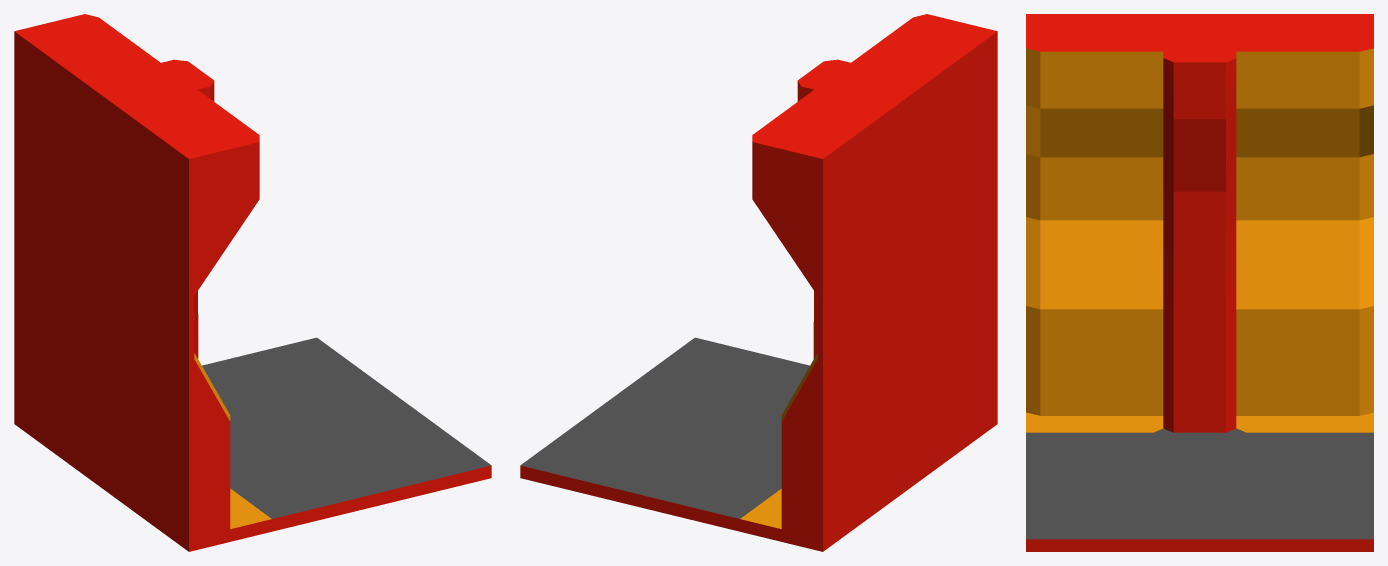
The picture shows the model from 3 angles, left to right: view 1: azimuth 30°, elevation 25°; view 2: azimuth 150°, elevation 25°; view 3: azimuth 270°, elevation 25°; orthographic projection.
Parts seen in each view (by area): view 1: S16; view 2: S16; view 3: S16.
Boxes of the visible parts, x1,y1,x2,y2 form: S16: [14, 14, 491, 551]; S16: [520, 14, 997, 551]; S16: [1026, 14, 1373, 551].
Bounding box in the file's own units: 200 × 248 × 200.
